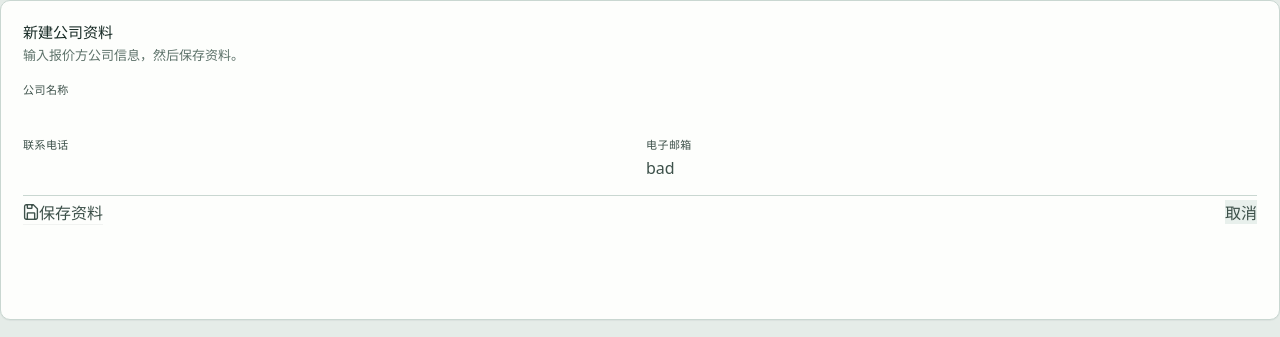
Test case: CompanyProfileLibraryEditor › describes required-name and optional-email validation in Chinese
What coordinates should you click on to do the following:
click the button "保存资料"
I would click on:
 (63, 212)
Its box is [23,200,103,224].
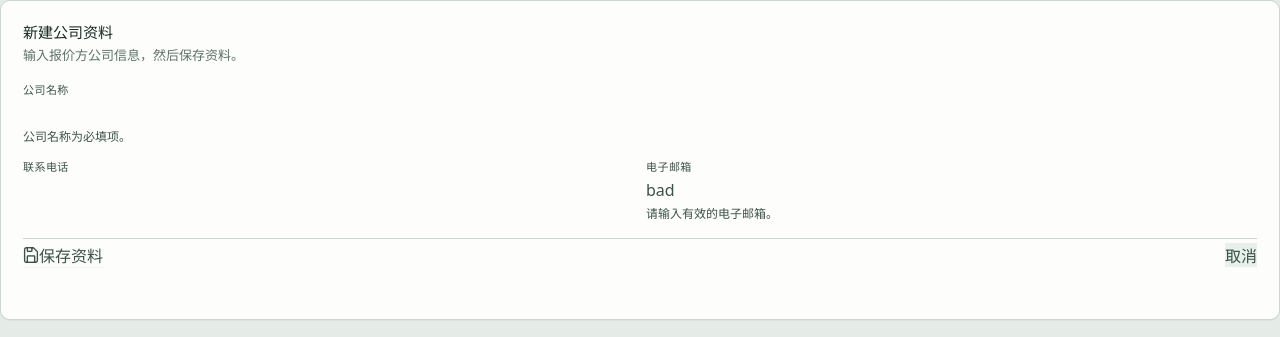
Now the text with id "company-name-error" reads "公司名称为必填项。", box [23,128,131,145]
Now the text with id "company-email-error" reads "请输入有效的电子邮箱。", box [646,205,778,222]
